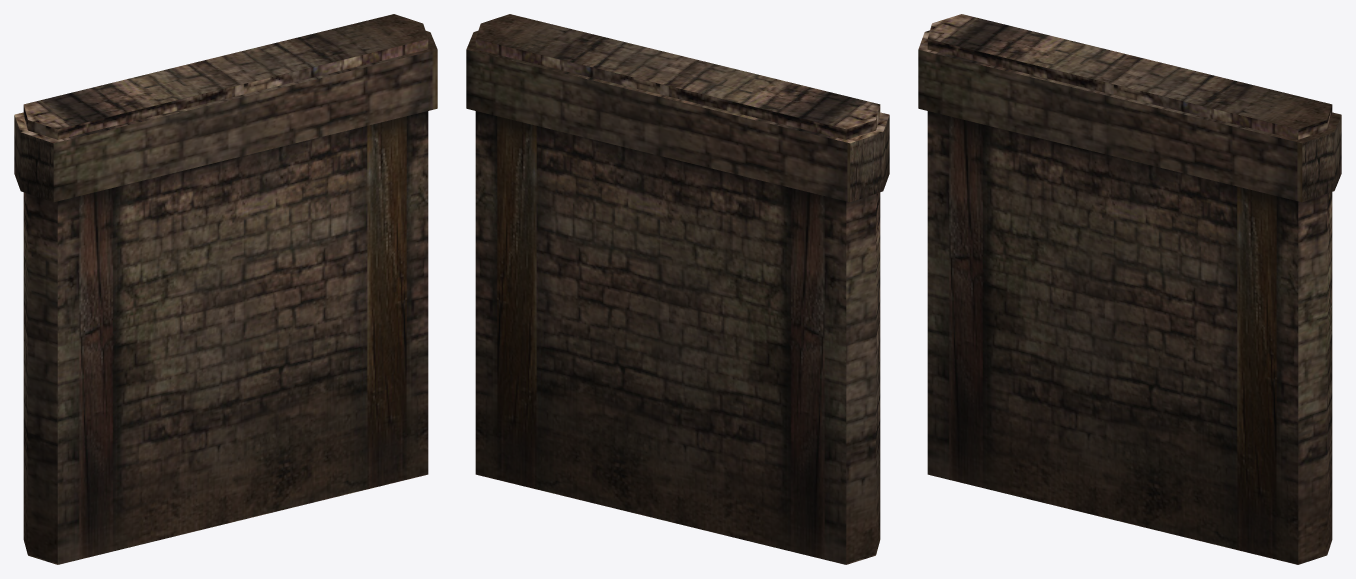
The model's file is wall01.fbx.
3 views of the same model, side by side, from view 1: azimuth 30°, elevation 25°; view 2: azimuth 150°, elevation 25°; view 3: azimuth 330°, elevation 25° (orthographic).
Parts seen in each view (by area): view 1: wall01; view 2: wall01; view 3: wall01.
Part boxes in pixels (<box>): wall01: <box>14,14,437,564</box>; wall01: <box>466,14,889,564</box>; wall01: <box>918,14,1341,564</box>.
Size of the model in its own units: 772 by 784 by 128.
